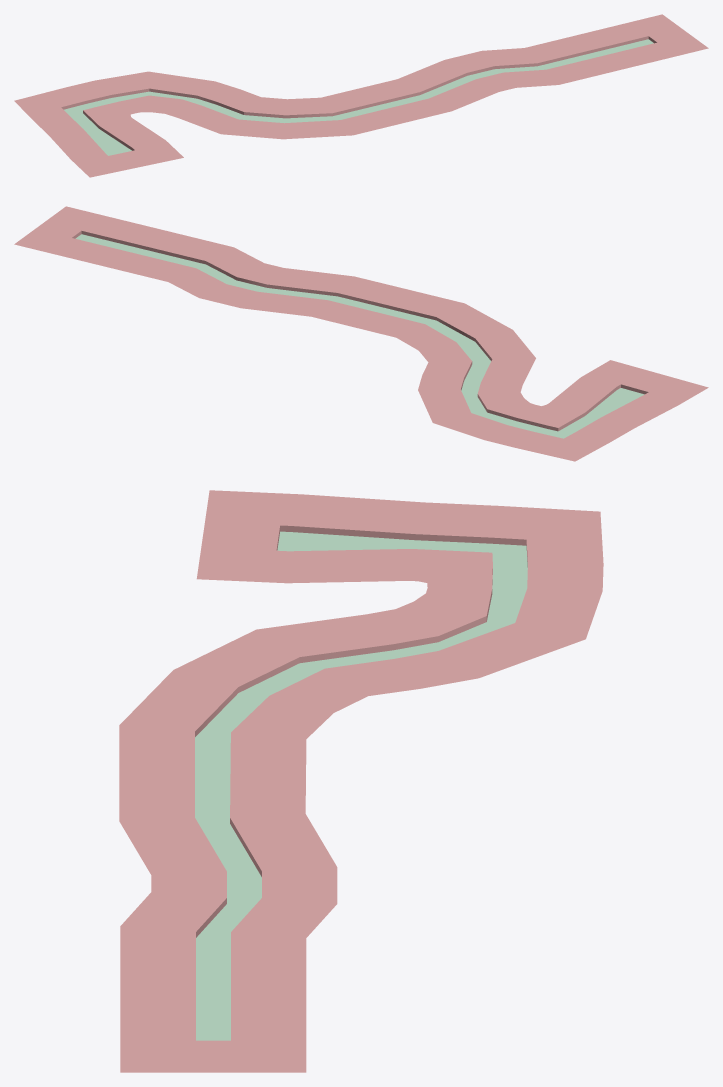
File: Route_v1.fbx
The picture shows the model from 3 angles, top to bottom: view 1: azimuth 30°, elevation 25°; view 2: azimuth 150°, elevation 25°; view 3: azimuth 270°, elevation 25°; orthographic projection. The views are drawn at different scales.
Visible parts, largest first — view 1: pPlane1; view 2: pPlane1; view 3: pPlane1.
Part boxes in pixels (box(x1,y1,x2,y2)): pPlane1: box(14, 14, 708, 177); pPlane1: box(14, 206, 708, 461); pPlane1: box(119, 490, 603, 1072).
Size of the model in its own units: 91.2 by 0.4448 by 32.03.
